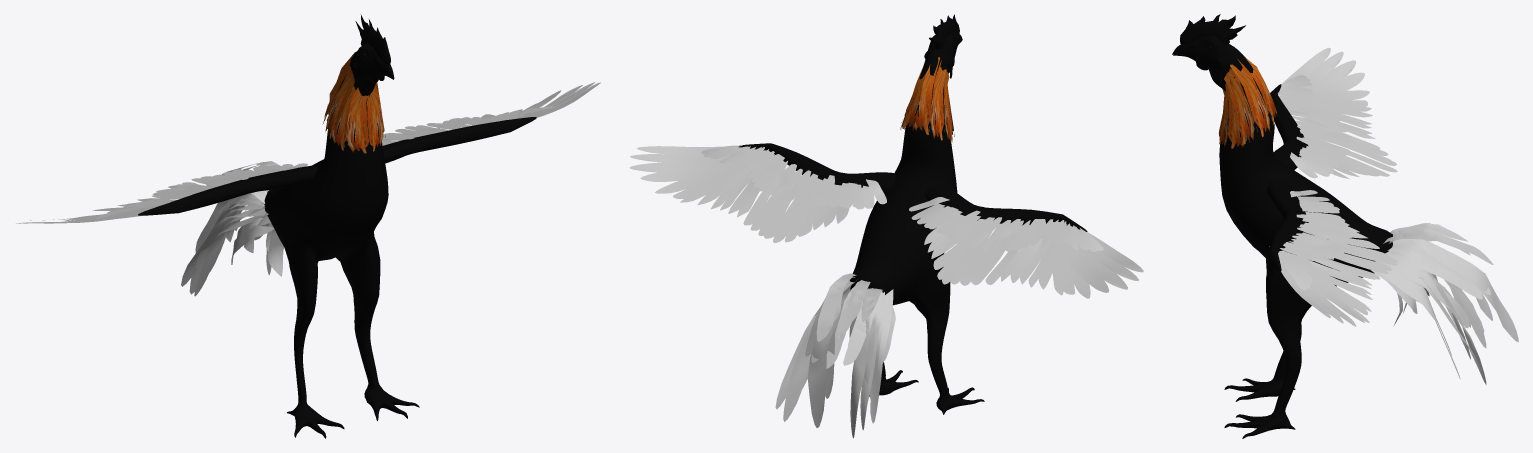
File: FOR UNITY.fbx
The picture shows the model from 3 angles, left to right: view 1: azimuth 30°, elevation 25°; view 2: azimuth 150°, elevation 25°; view 3: azimuth 270°, elevation 25°; orthographic projection. The views are drawn at different scales.
Parts seen in each view (by area): view 1: body_oPP, wing_bone, back_feathers1, front_wing, back_wings, back_feathers, G, H, F, head_top; view 2: back_wings, body_oPP, front_wing, back_feathers1, wing_bone, back_feathers, C, J, head_top, A; view 3: body_oPP, back_wings, front_wing, back_feathers1, wing_bone, back_feathers, head_top, I, B, D, A, H.
Part boxes in pixels (x1,y1,x2,y2): body_oPP: (264, 43, 419, 438); wing_bone: (138, 117, 536, 215); back_feathers1: (181, 161, 290, 296); front_wing: (96, 106, 554, 218); back_wings: (16, 82, 600, 223); back_feathers: (195, 162, 279, 272); G: (344, 87, 368, 153); H: (367, 87, 385, 151); F: (324, 69, 354, 138); head_top: (355, 14, 390, 65); back_wings: (629, 146, 1143, 298); body_oPP: (849, 33, 984, 414); front_wing: (701, 145, 1103, 251); back_feathers1: (775, 273, 895, 438); wing_bone: (738, 143, 1087, 231); back_feathers: (792, 276, 885, 400); C: (929, 60, 946, 140); J: (915, 57, 939, 134); head_top: (929, 14, 959, 49); A: (902, 63, 927, 130); body_oPP: (1172, 35, 1392, 438); back_wings: (1269, 47, 1397, 326); front_wing: (1277, 75, 1352, 289); back_feathers1: (1371, 224, 1518, 384); wing_bone: (1266, 84, 1308, 271); back_feathers: (1389, 223, 1492, 359); head_top: (1180, 14, 1245, 45); I: (1224, 68, 1257, 144); B: (1230, 58, 1272, 136); D: (1225, 79, 1250, 148); A: (1246, 58, 1277, 124); H: (1219, 89, 1228, 147).
Size of the model in its own units: 26 by 17.7 by 14.02.
